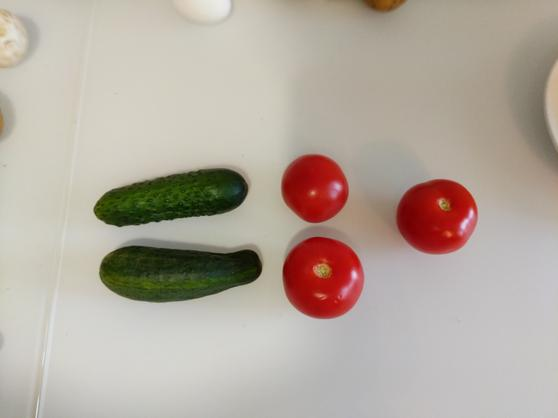cucumber: (99, 245, 263, 302), (91, 167, 249, 226)
tomato: (280, 235, 365, 320), (394, 178, 482, 255), (279, 153, 349, 223)
